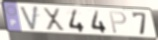4: (90, 10, 108, 35), (68, 8, 85, 34)
7: (131, 12, 149, 37)
P: (108, 11, 128, 35)
V: (19, 5, 40, 32)
X: (42, 7, 66, 33)
